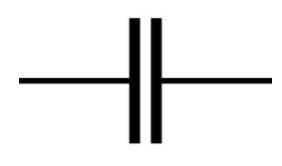Capacitor: (110, 12, 191, 149)
